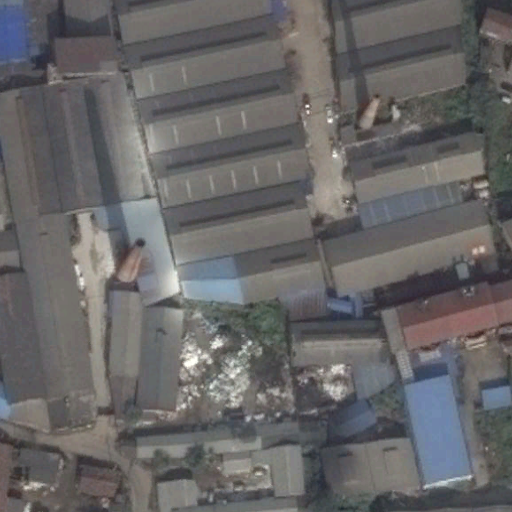msw: (175, 329, 264, 408)
